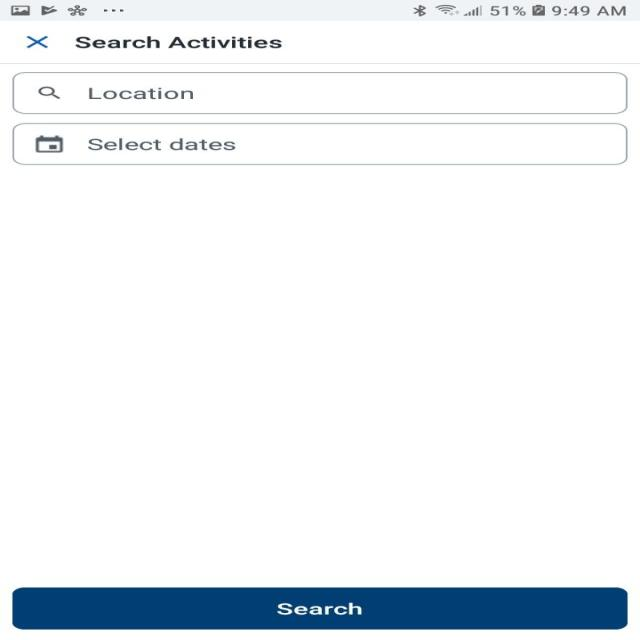EditText: (11, 123, 626, 165), (12, 72, 626, 114)
Icon: (36, 136, 64, 152), (27, 36, 49, 49), (38, 87, 61, 99)
Text: (75, 36, 282, 49), (87, 138, 236, 150), (88, 87, 193, 100)
TextButton: (12, 587, 628, 629)
